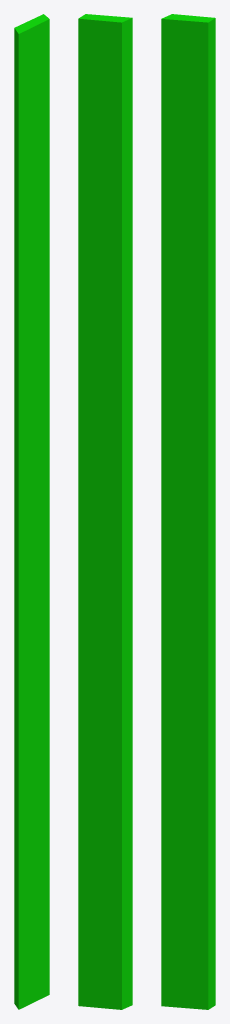
3 renders of one model, left to right at view 1: azimuth 30°, elevation 25°; view 2: azimuth 150°, elevation 25°; view 3: azimuth 330°, elevation 25°, orthographic.
Visible parts, largest first — view 1: Cube.017; view 2: Cube.017; view 3: Cube.017.
Part boxes in pixels (x1,y1,x2,y2): Cube.017: [14, 14, 49, 1009]; Cube.017: [78, 14, 132, 1009]; Cube.017: [161, 14, 215, 1009].
Bounding box in the file's own units: 200 × 4742 × 127.
